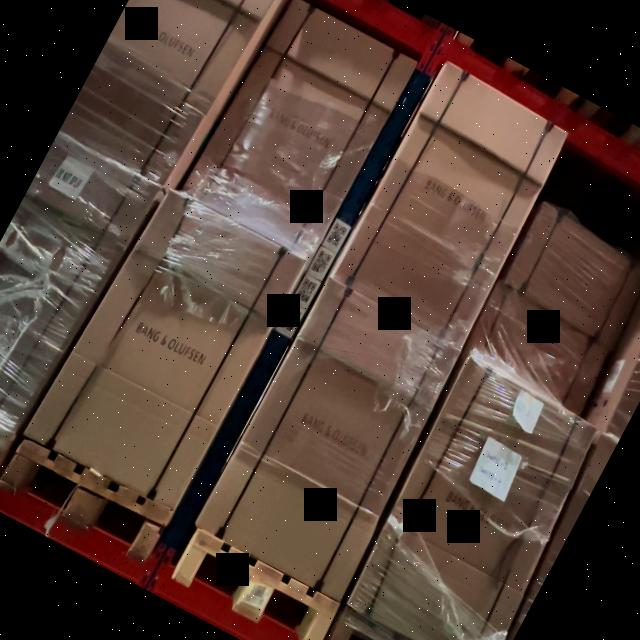box: (19, 191, 308, 510), (194, 278, 457, 602), (342, 358, 601, 640), (330, 64, 569, 350), (174, 0, 417, 259), (499, 198, 640, 350), (460, 283, 608, 417)
